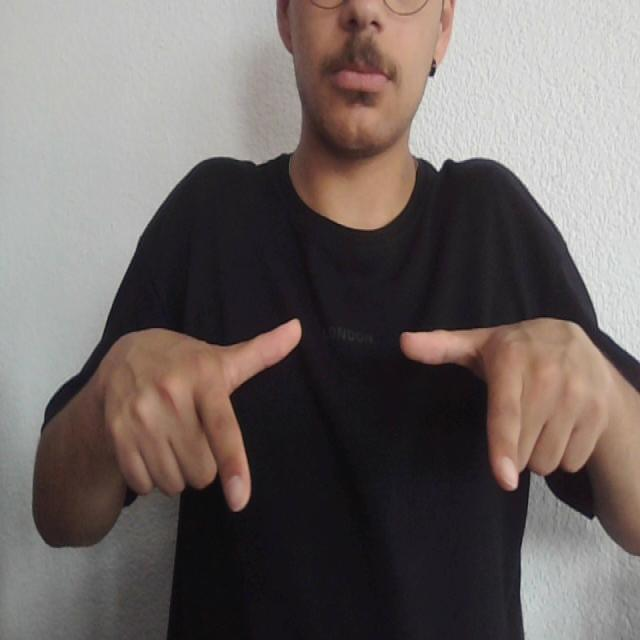Nerede: (193, 306, 530, 537)
